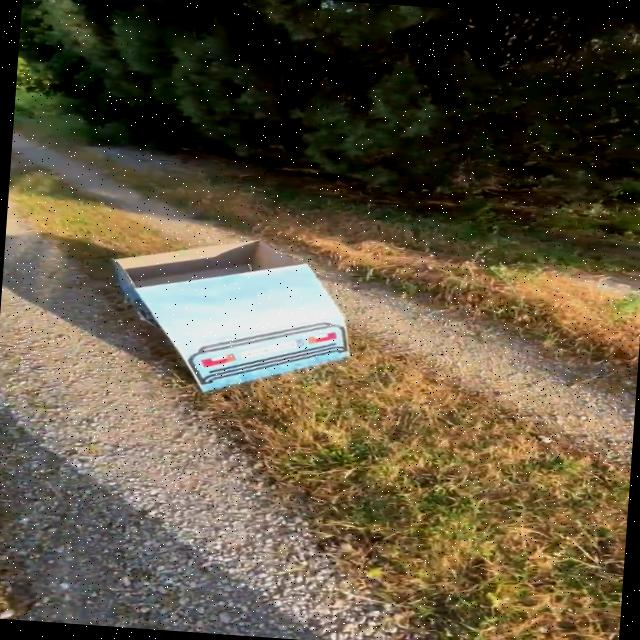blue_car: (77, 214, 401, 433)
